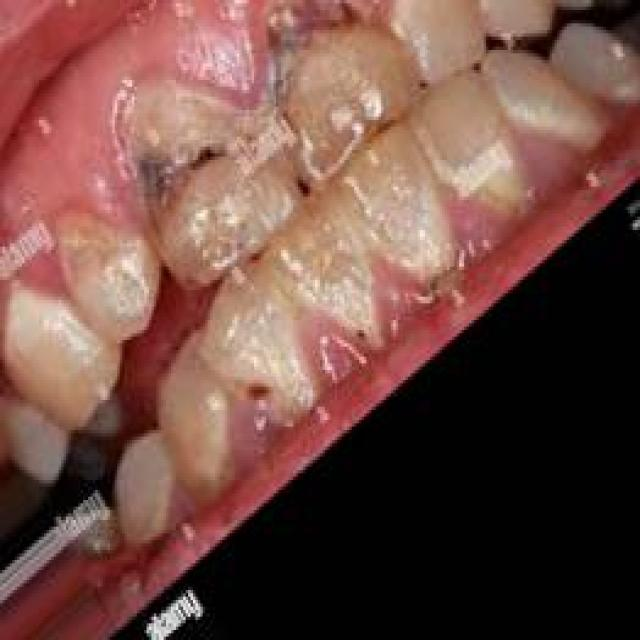caries: (246, 0, 362, 107), (123, 119, 224, 231), (231, 356, 280, 417)
